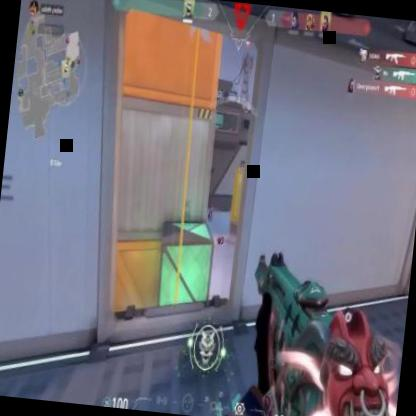enemy: (207, 201, 214, 220)
enemy_head: (209, 202, 213, 209)
